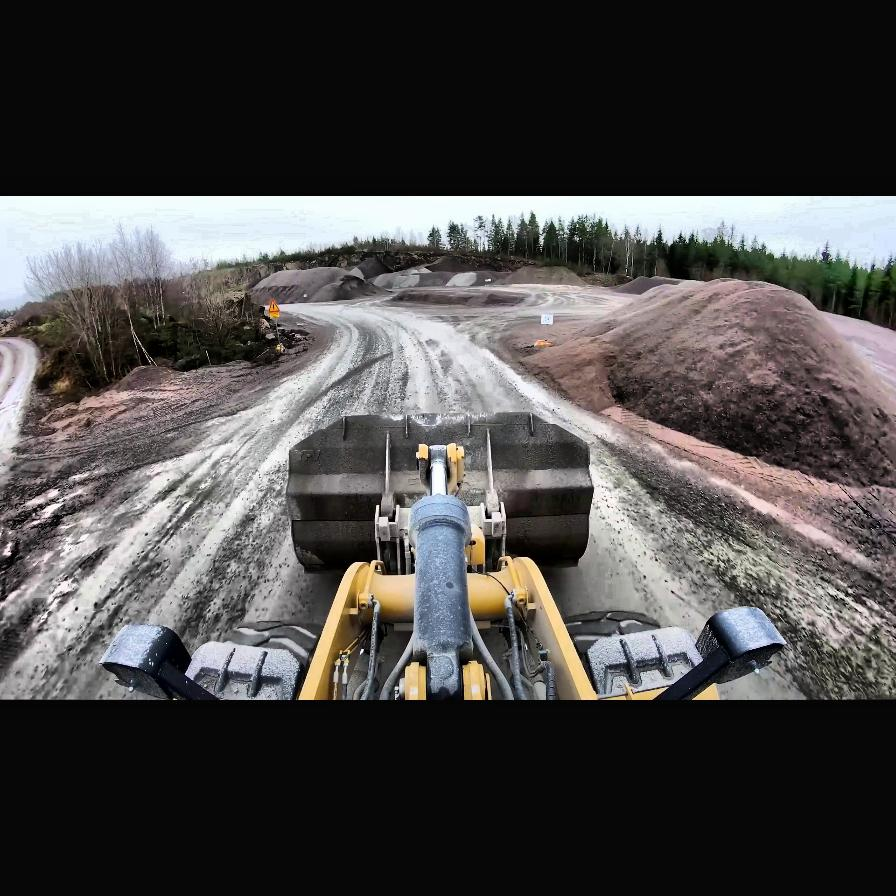anchor: (416, 442, 462, 496)
pile of gravel: (556, 276, 896, 504), (250, 266, 386, 304), (514, 265, 586, 287), (347, 255, 405, 281), (610, 276, 686, 294)
